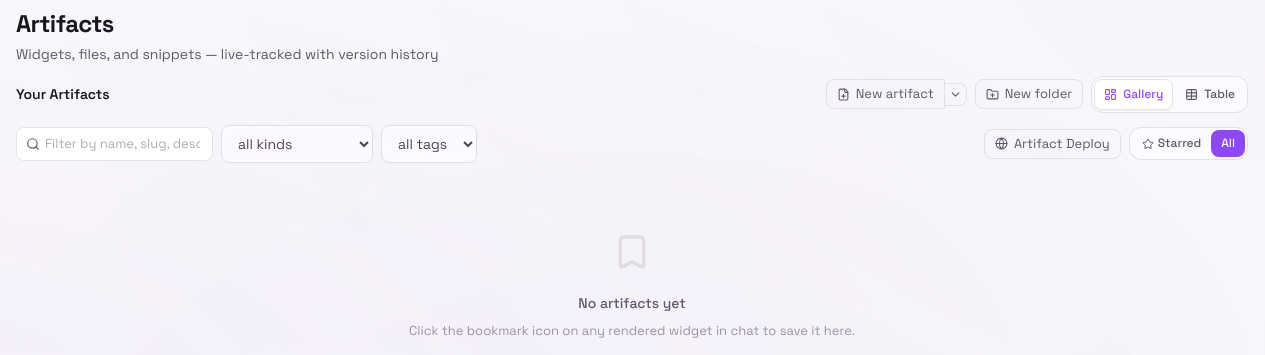
it: ArtifactsPage — New Artifact split button › keeps file import available under the caret
Expected: the text "No artifacts yet" is shown, x1=578 y1=293 x2=686 y2=313
Expected: the text "Import from a file" is not shown
Click the button named "More ways to add an artifact" at (956, 94), box x1=945 y1=83 x2=967 y2=106
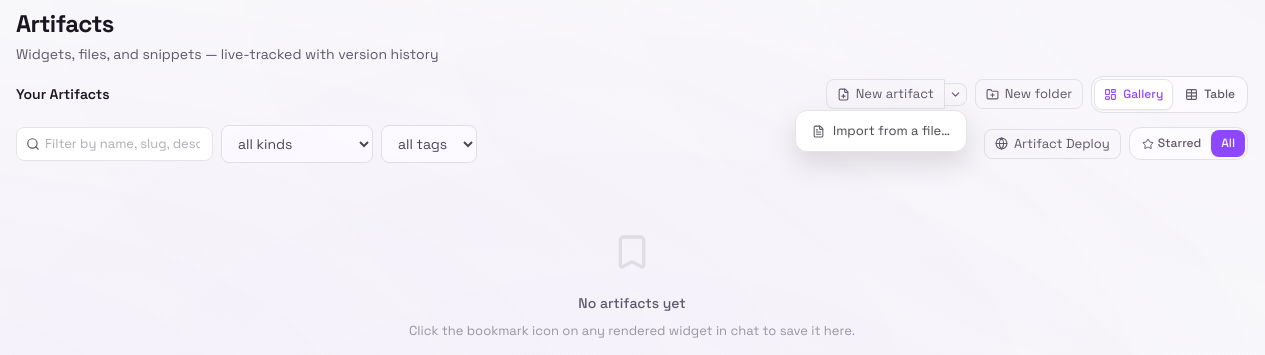
Result: the menu item "Import from a file…" is shown at x1=812 y1=122 x2=950 y2=139
